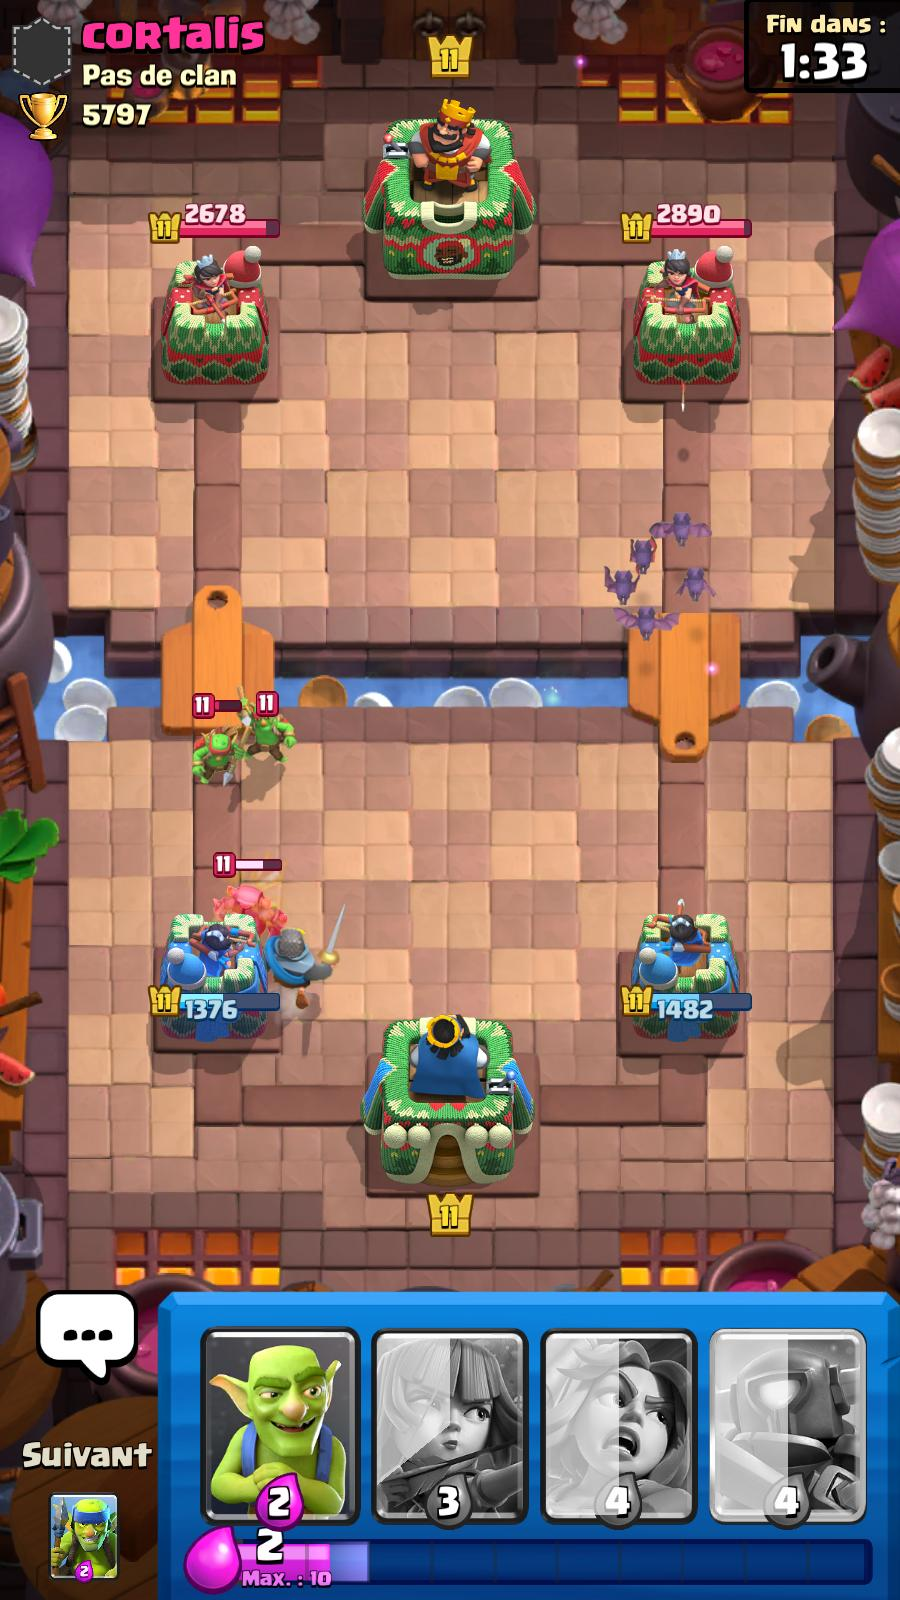bat: (653, 507, 723, 552), (669, 557, 722, 612), (613, 602, 678, 643), (618, 529, 668, 575), (593, 564, 651, 603)
chevalier: (266, 904, 360, 1011)
gobelin_lances: (185, 695, 255, 791), (234, 689, 304, 777)
mini_PEKKA: (196, 860, 297, 938)
